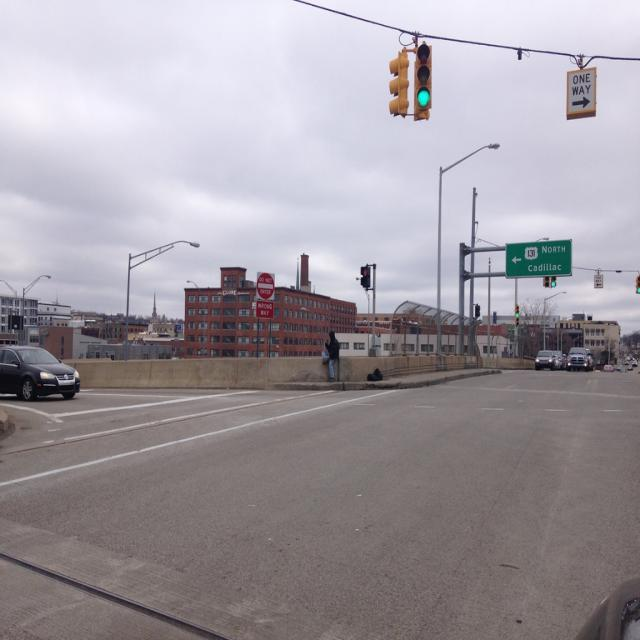traffic light: (414, 43, 433, 113)
